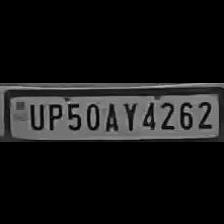0: (82, 99, 102, 130)
2: (156, 97, 176, 129), (194, 97, 212, 129)
4: (139, 98, 157, 130)
5: (62, 98, 82, 130)
6: (175, 97, 193, 129)
A: (101, 98, 119, 132)
P: (43, 99, 62, 130)
U: (24, 99, 44, 130)
Y: (118, 98, 138, 132)
